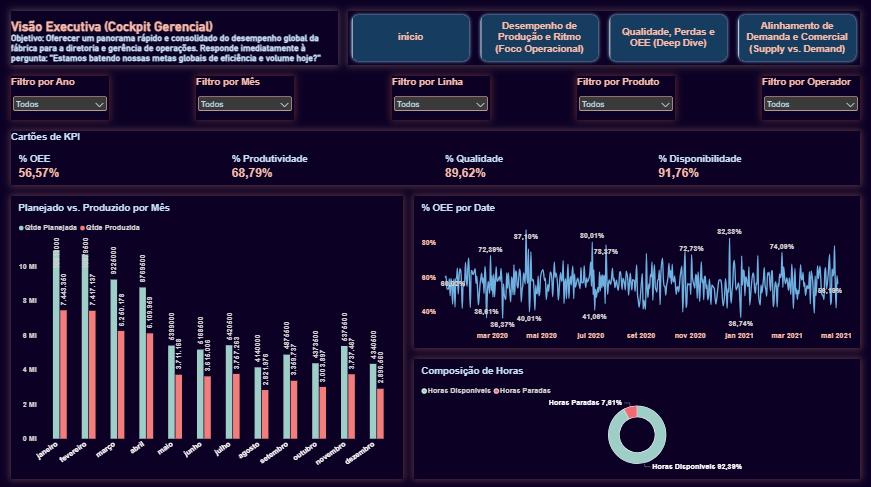

The dashboard page shown, as its layout file describes it:
{"tool":"powerbi","page":{"name":"Visão Executiva (Cockpit Gerencial)","canvas":[1920,1080],"ordinal":1},"visuals":[{"type":"textbox","box":[24,24,720,120],"z":0},{"type":"pageNavigator","title":"Navegação","box":[768,24,1128,120],"z":1},{"type":"slicer","title":"Filtro por Ano","fields":{"Values":["dCalendario.Ano"]},"box":[24,168,216,96],"z":2},{"type":"slicer","title":"Filtro por Mês","fields":{"Values":["dCalendario.Mês"]},"box":[432,168,216,96],"z":3},{"type":"slicer","title":"Filtro por Linha","fields":{"Values":["dLinhaProducao.NomeLinha"]},"box":[864,168,216,96],"z":4},{"type":"slicer","title":"Filtro por Produto","fields":{"Values":["dProduto.NomeProduto"]},"box":[1272,168,216,96],"z":5},{"type":"slicer","title":"Filtro por Operador","fields":{"Values":["dOperador.NomeOperador"]},"box":[1680,168,216,96],"z":6},{"type":"cardVisual","title":"Cartões de KPI","fields":{"Data":["_Medidas.% OEE","_Medidas.% Produtividade","_Medidas.% Qualidade","_Medidas.% Disponibilidade"]},"box":[24,288,1872,120],"z":7},{"type":"clusteredColumnChart","title":"Planejado vs. Produzido por Mês","fields":{"Category":["dCalendario.Mês"],"Y":["_Medidas.Qtde Planejada","_Medidas.Qtde Produzida"]},"box":[24,432,864,624],"z":8},{"type":"lineChart","fields":{"Category":["dCalendario.Date"],"Y":["_Medidas.% OEE"]},"box":[912,432,984,336],"z":9},{"type":"donutChart","title":"Composição de Horas","fields":{"Y":["_Medidas.Horas Disp.","_Medidas.Horas Paradas"]},"box":[912,792,984,264],"z":10}]}

Visuals, with their boxes in screenshot pixels (x1, y1, x2, y2), scaled from the page's 1920x1080 canvas onto the 871x487 screenshot:
textbox: region(11, 11, 338, 65)
"Navegação" pageNavigator: region(348, 11, 860, 65)
"Filtro por Ano" slicer: region(11, 76, 109, 119)
"Filtro por Mês" slicer: region(196, 76, 294, 119)
"Filtro por Linha" slicer: region(392, 76, 490, 119)
"Filtro por Produto" slicer: region(577, 76, 675, 119)
"Filtro por Operador" slicer: region(762, 76, 860, 119)
"Cartões de KPI" cardVisual: region(11, 130, 860, 184)
"Planejado vs. Produzido por Mês" clusteredColumnChart: region(11, 195, 403, 476)
lineChart - dCalendario.Date x _Medidas.% OEE: region(414, 195, 860, 346)
"Composição de Horas" donutChart: region(414, 357, 860, 476)
